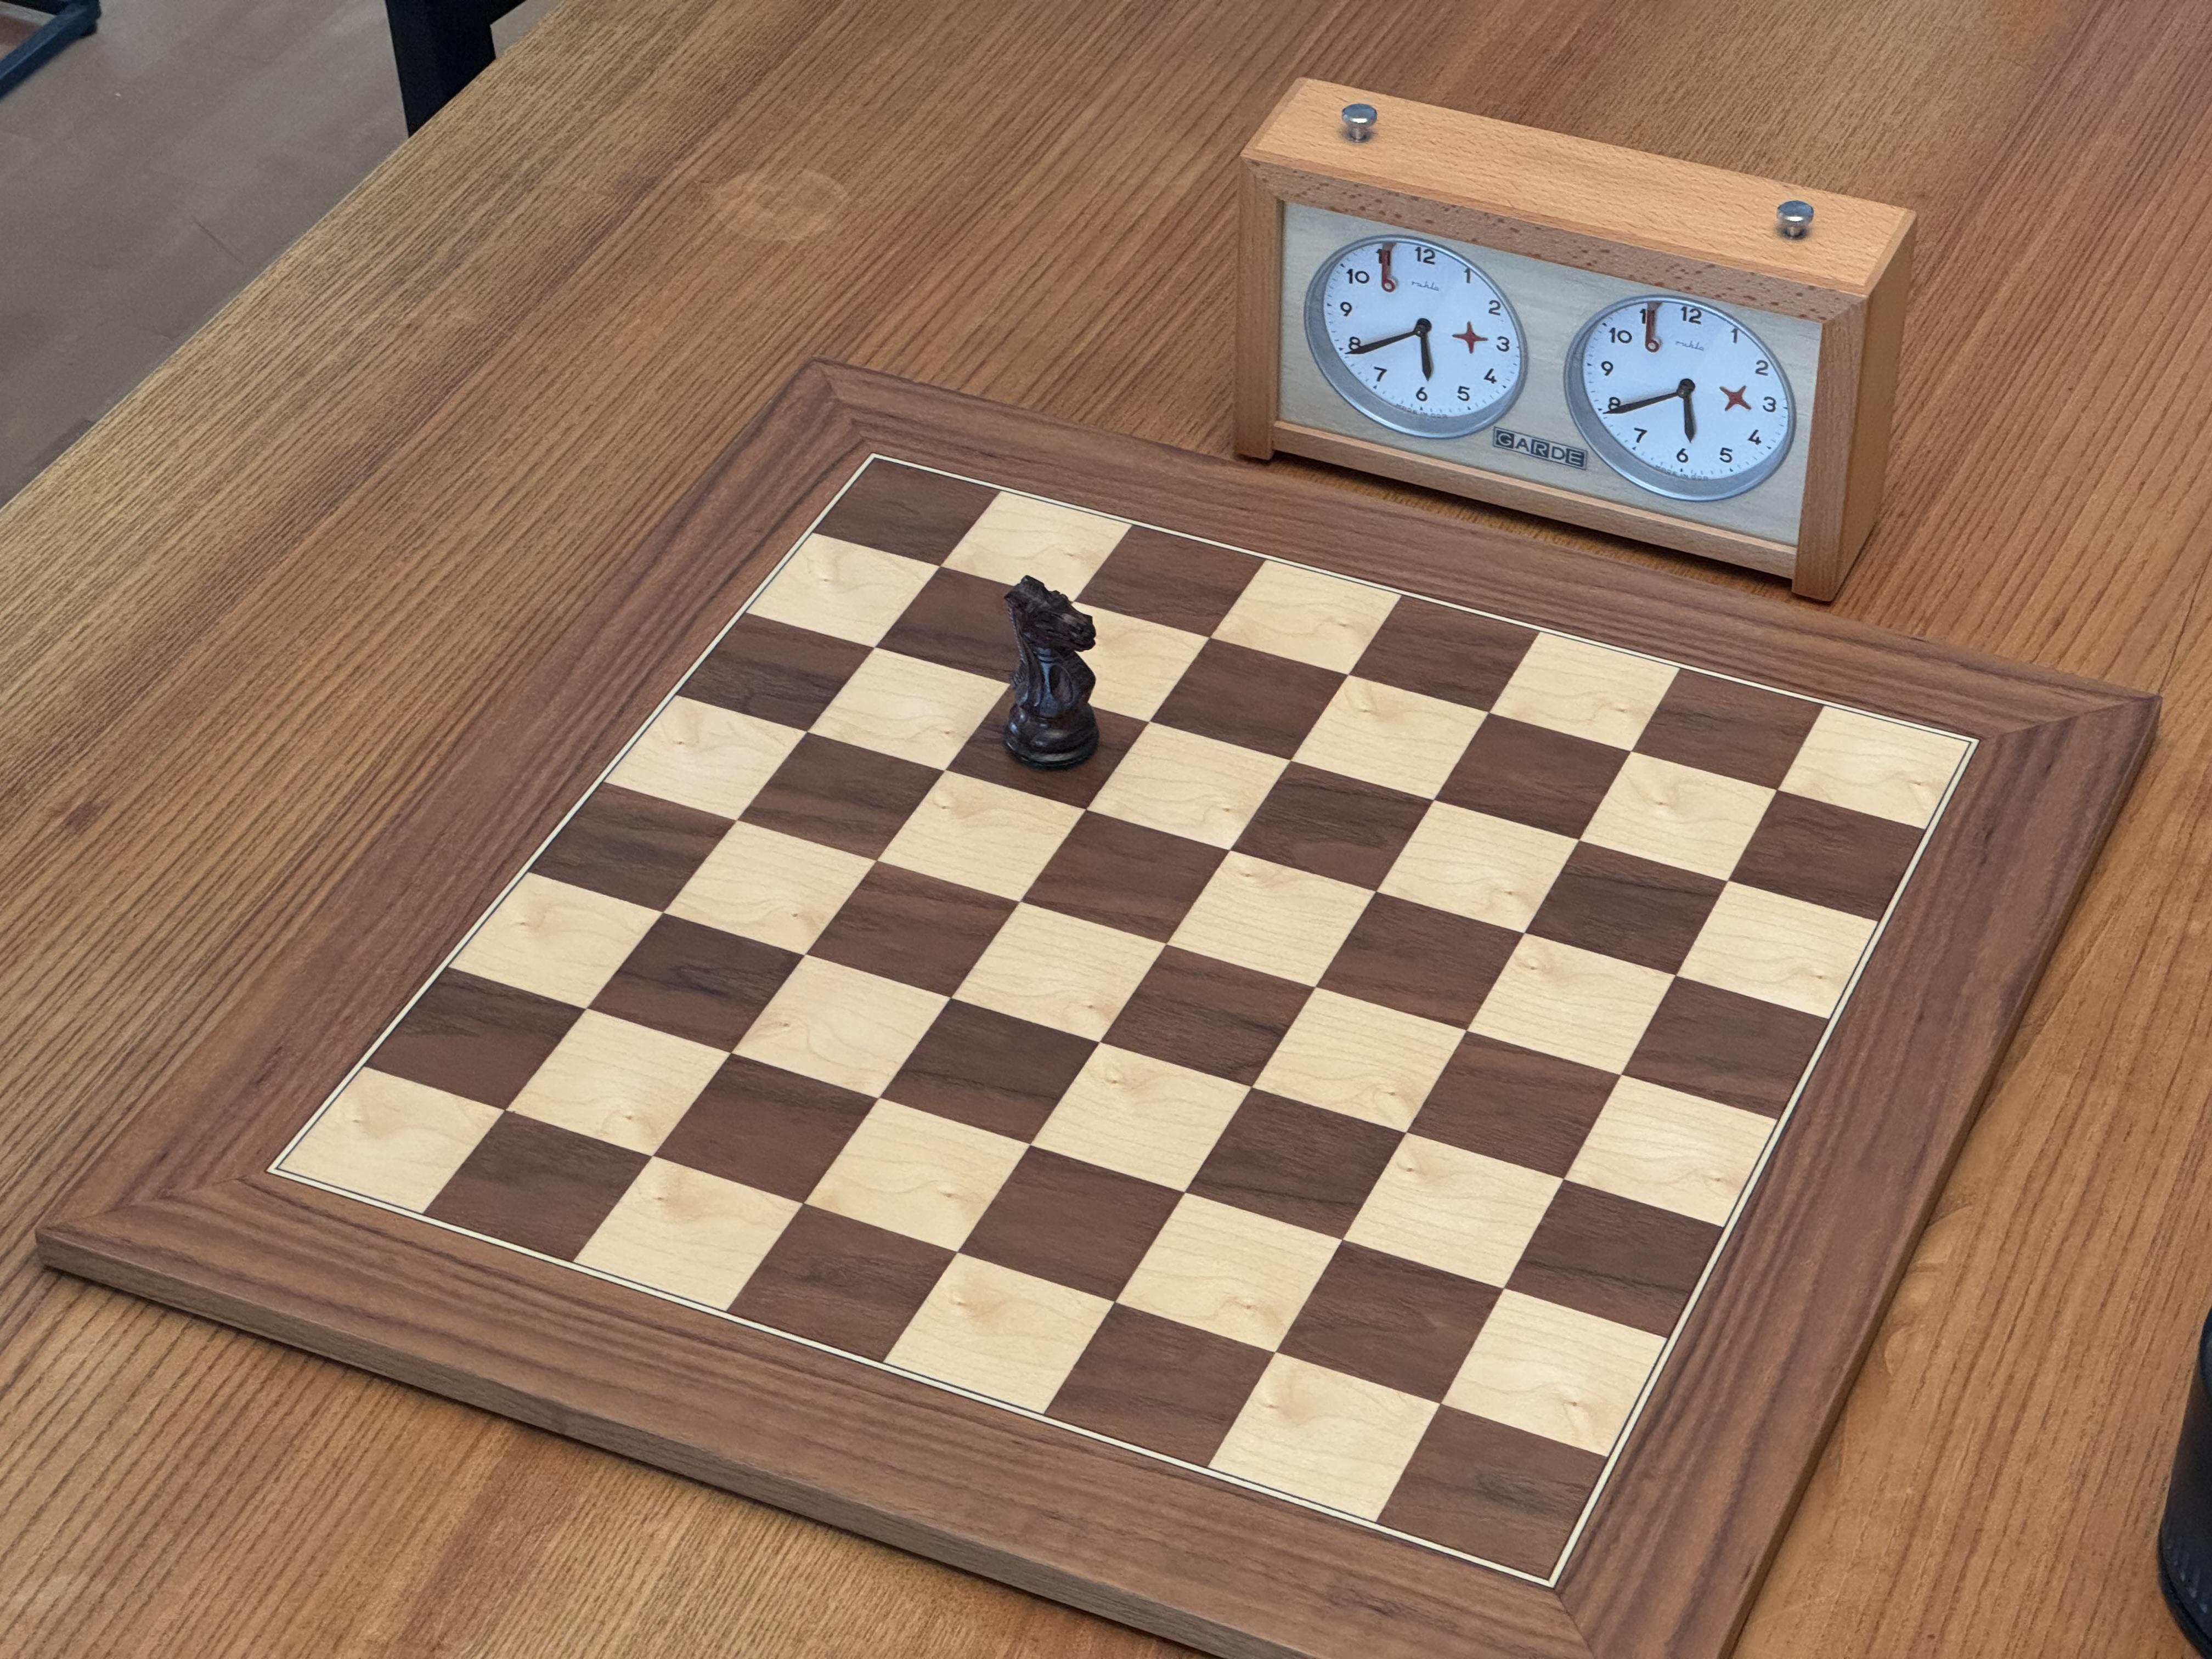Black Knight: (998, 566, 1108, 774)
